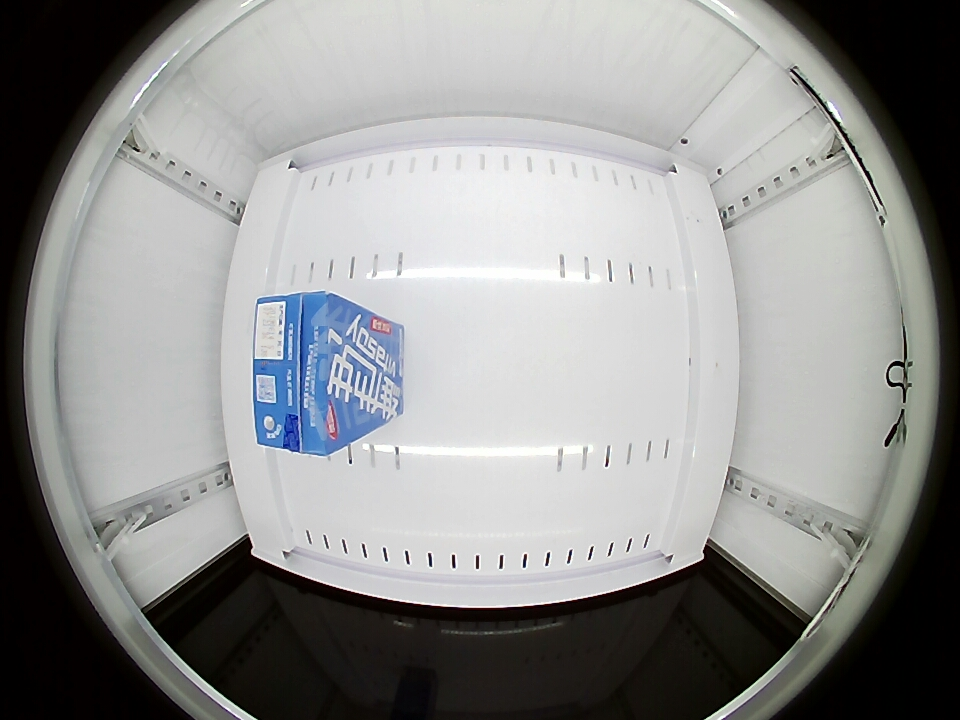weitanai: (254, 291, 361, 456)
